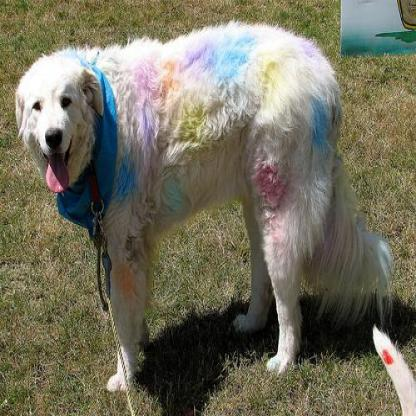kuvasz: (13, 21, 391, 389)
